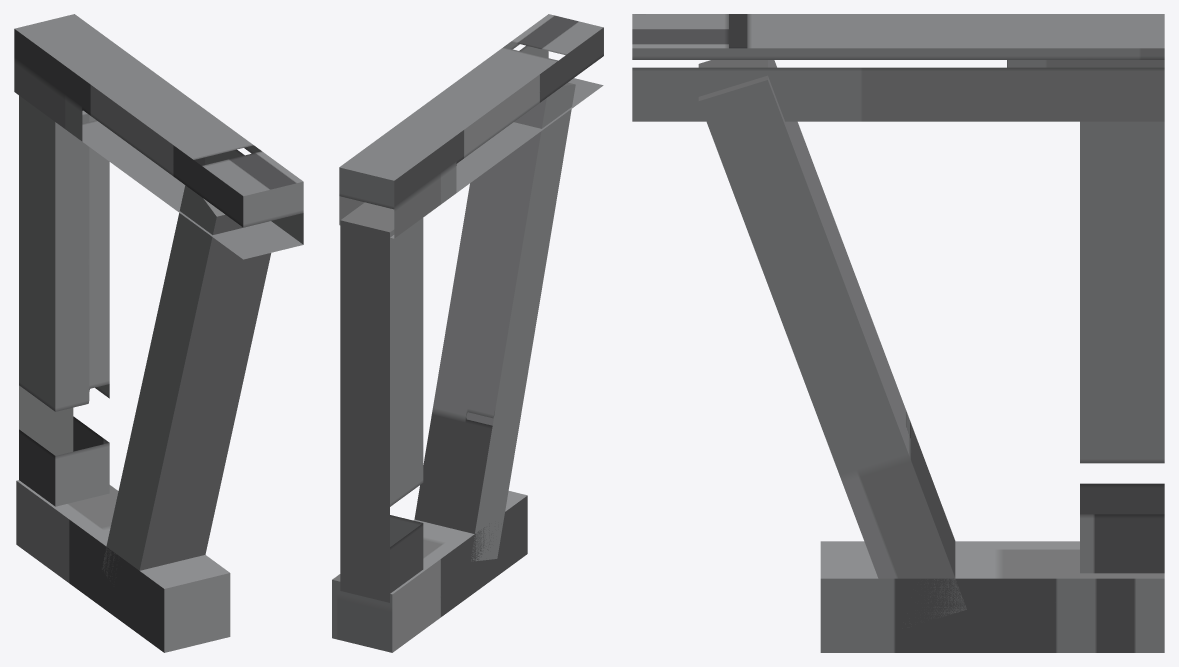
The picture shows the model from 3 angles, left to right: view 1: azimuth 30°, elevation 25°; view 2: azimuth 150°, elevation 25°; view 3: azimuth 270°, elevation 25°; orthographic projection. The views are drawn at different scales.
Size of the model in its own units: 0.1424 by 1.03 by 0.831.
